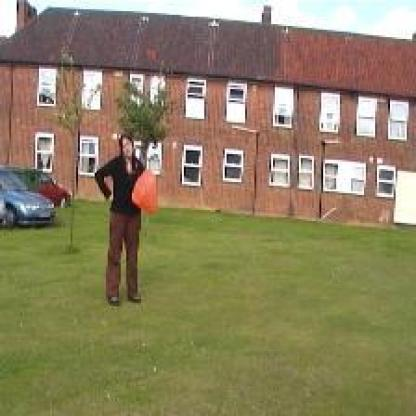other: (118, 162, 167, 219)
